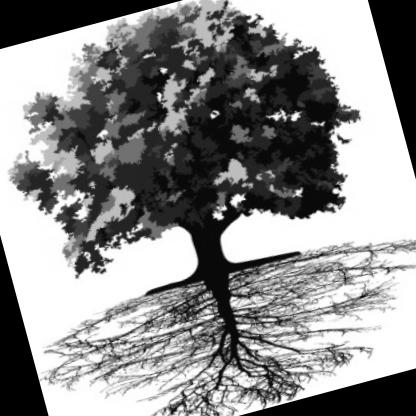crown_cloud: (0, 0, 383, 291)
trunk_straight: (190, 237, 228, 268)
